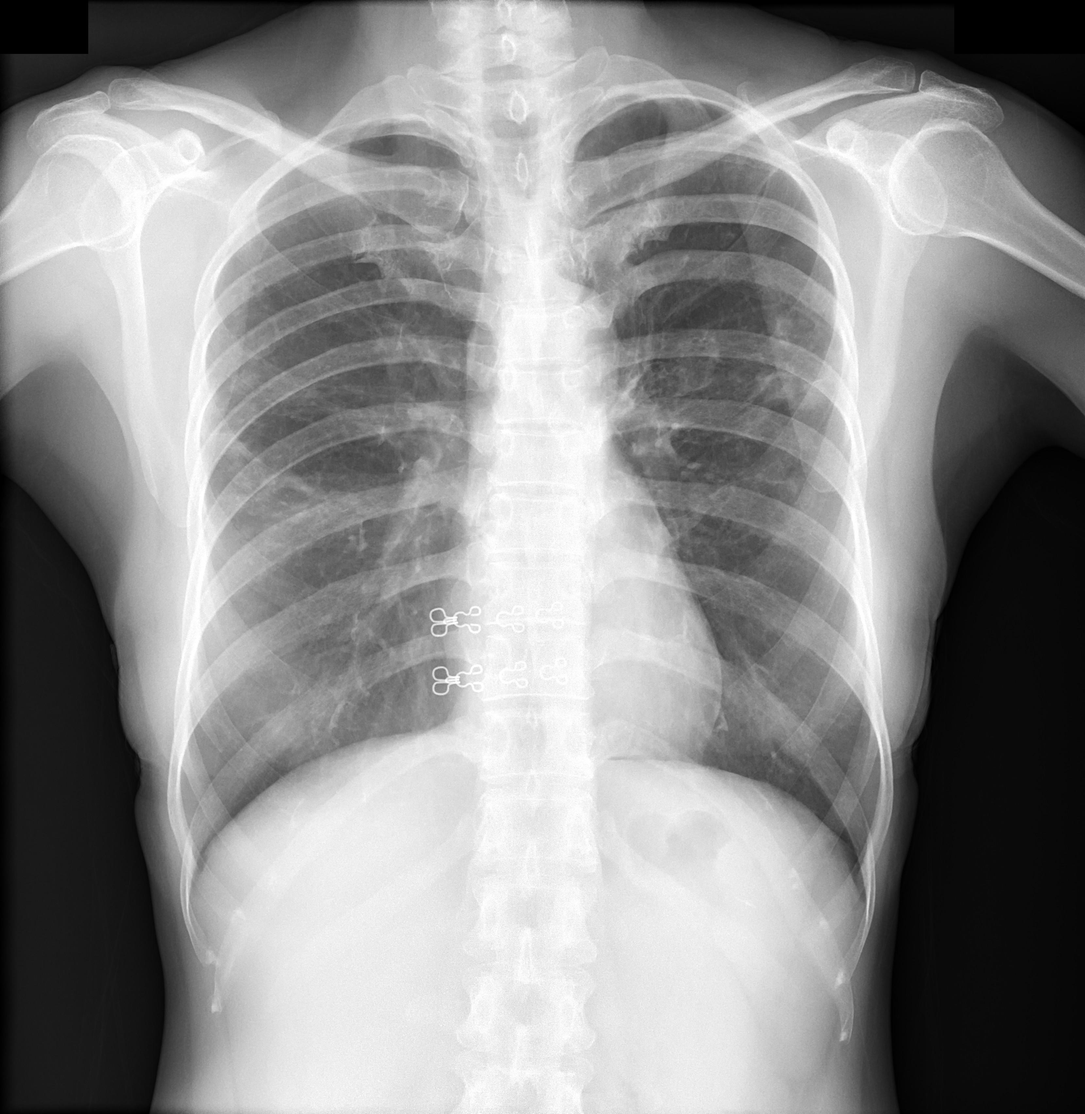Pulmonary fibrosis: (656, 328, 837, 494), (200, 440, 383, 543)
